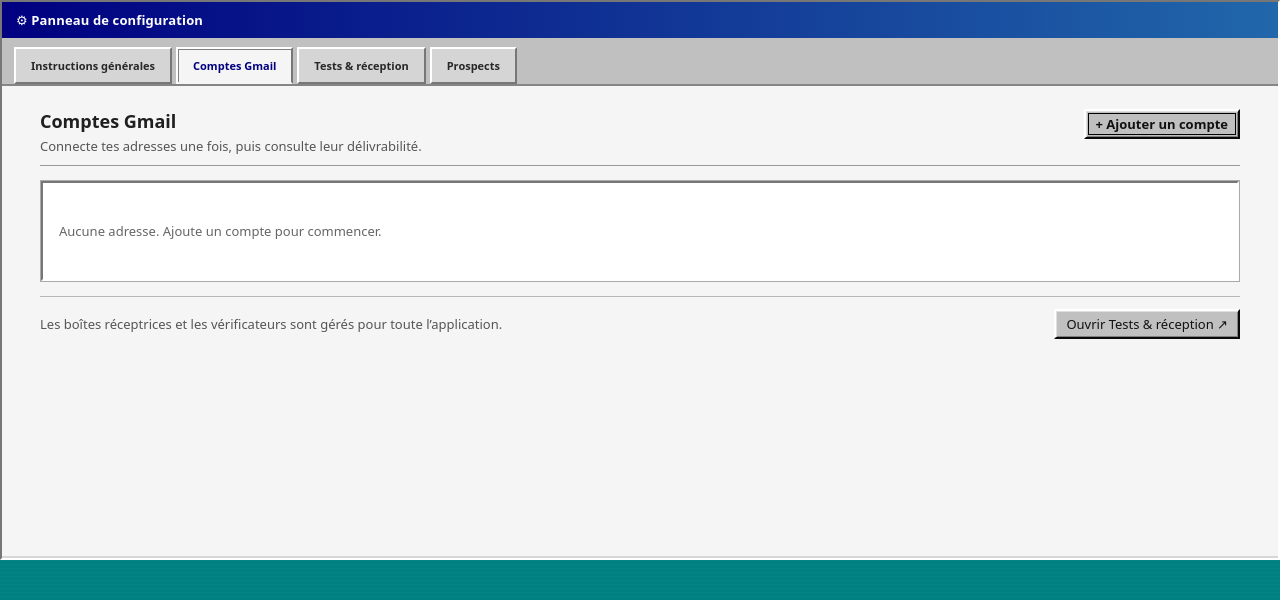
it: SettingsView blacklist › distinguishes domain exclusions and allows retrying a failed request
The width and height of the screenshot is (1280, 600).
Click the button "Prospects" at (473, 66), box [430, 47, 517, 84]
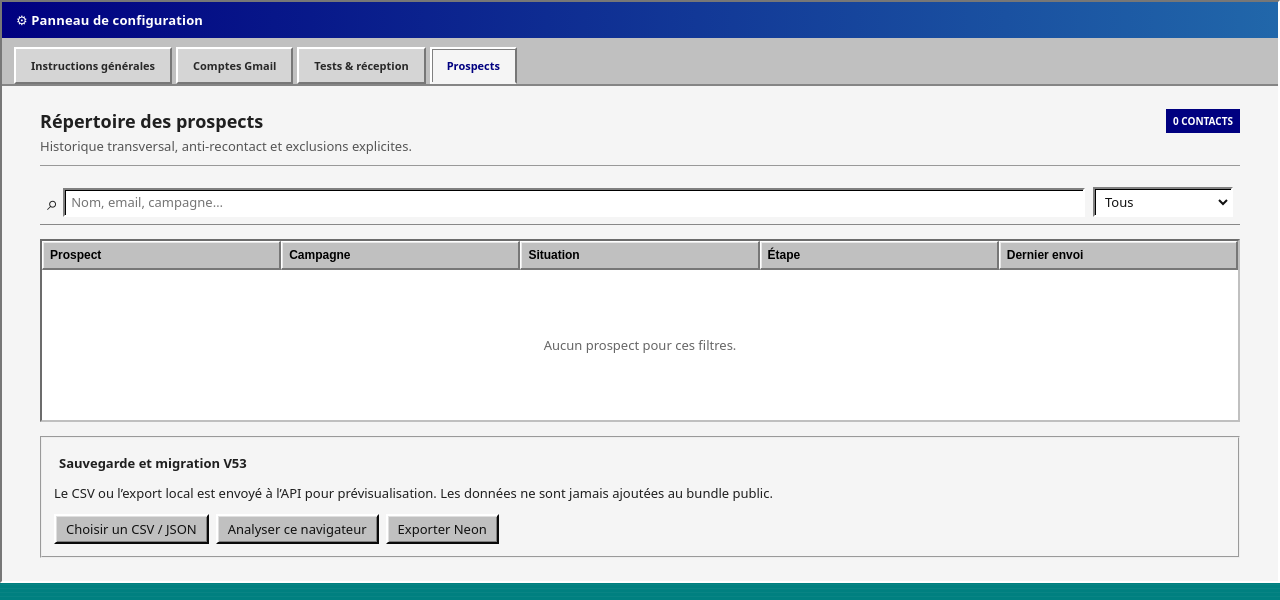
Select "Blacklist" in the dropdown named "Filtrer les prospects" at (1163, 202), box [1093, 187, 1233, 217]
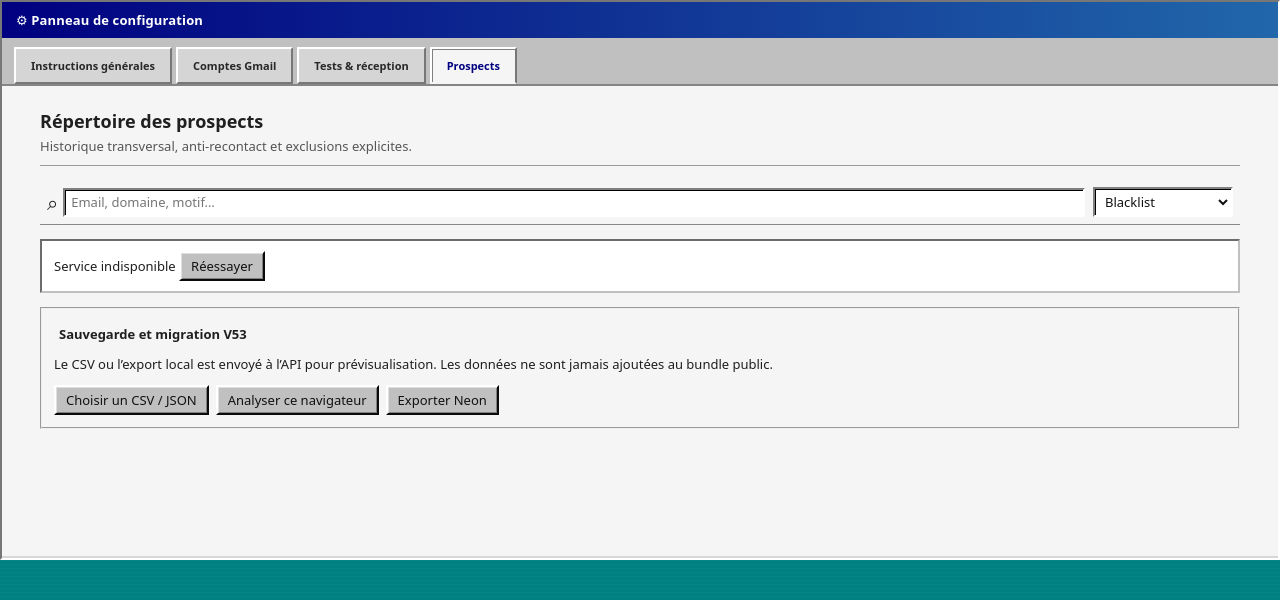
Check: the message shows "Service indisponible", box [54, 257, 176, 275]
Click the button "Réessayer" at (222, 266), box [179, 251, 265, 281]
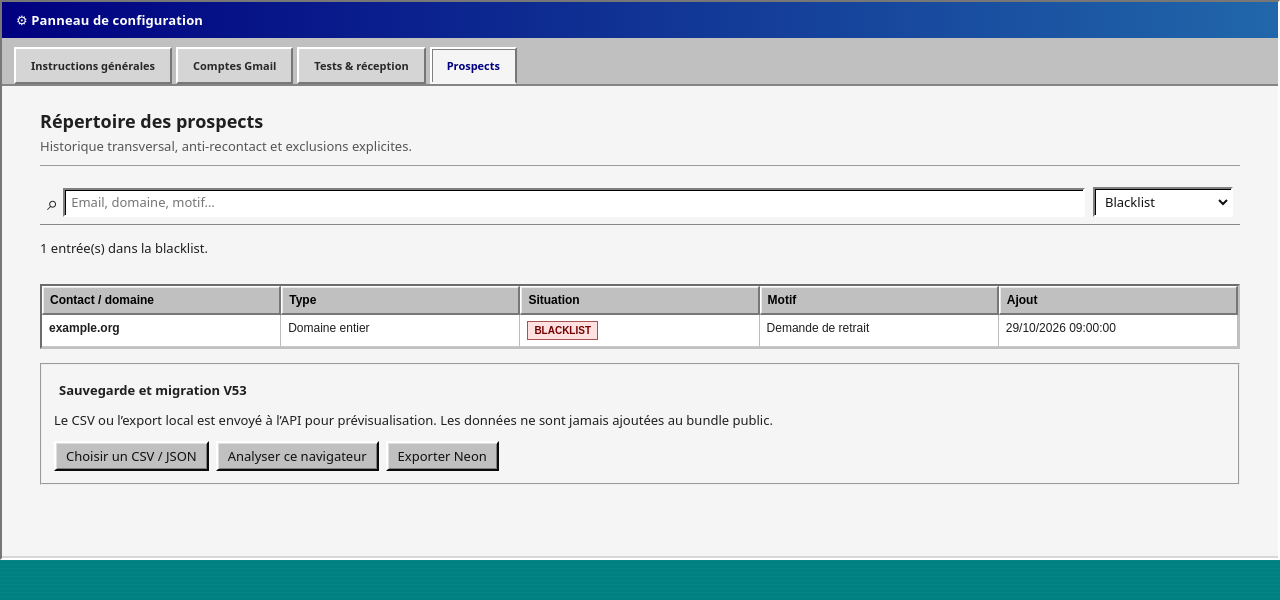
Check: the text "example.org" is shown, box [49, 321, 120, 335]
Check: the text "Domaine entier" is shown, box [281, 315, 520, 347]
